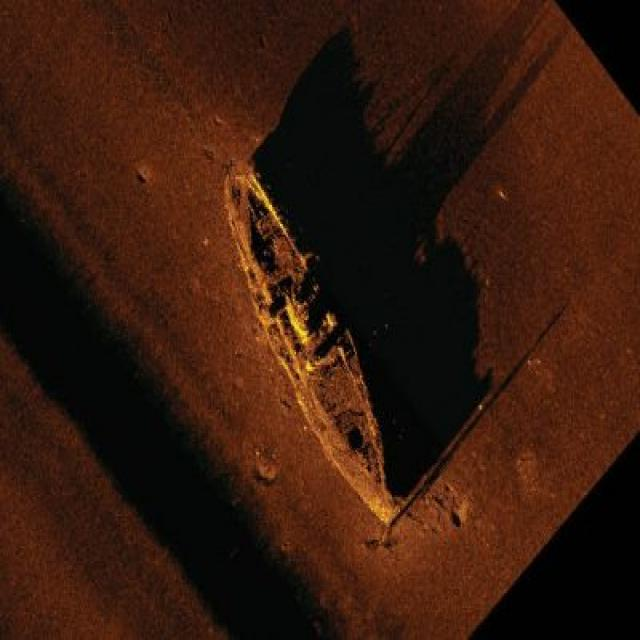ship: (222, 158, 405, 525)
